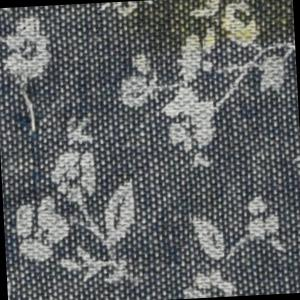Damage: (7, 15, 63, 243)
Oil Stain: (122, 1, 296, 60)
